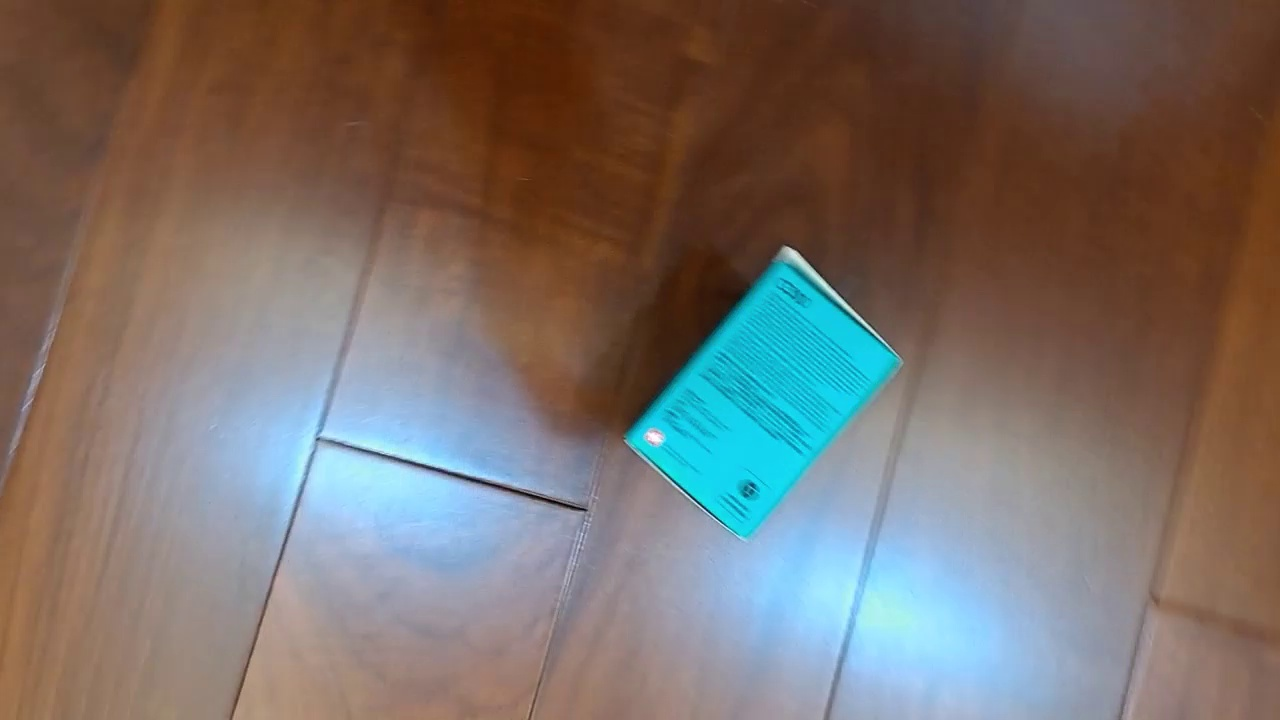webcam: (620, 244, 906, 545)
